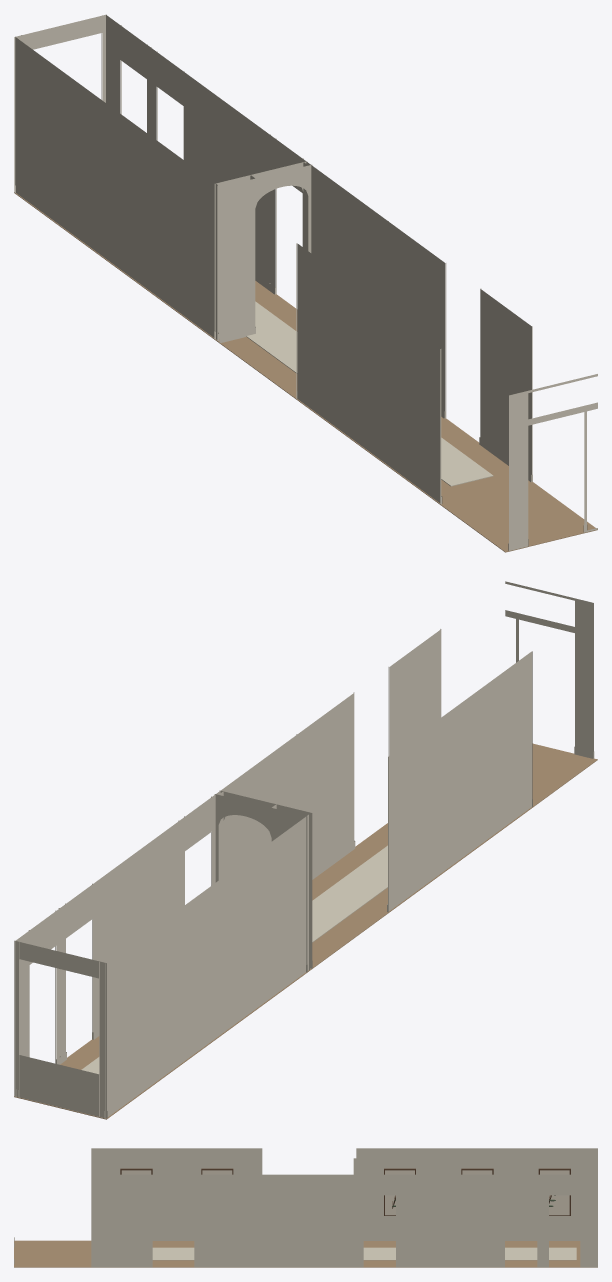
The model's file is corridor-1.glb.
The picture shows the model from 3 angles, top to bottom: view 1: azimuth 30°, elevation 25°; view 2: azimuth 150°, elevation 25°; view 3: azimuth 270°, elevation 25°; orthographic projection. The views are drawn at different scales.
Visible parts, largest first — view 1: DESIGN | corridor removable wall finish, DESIGN | corridor floor finish, DESIGN | Quiet hall runner; view 2: DESIGN | corridor removable wall finish, DESIGN | corridor floor finish, DESIGN | Quiet hall runner; view 3: DESIGN | corridor removable wall finish, DESIGN | corridor floor finish, DESIGN | Quiet hall runner, DESIGN | Seasonal silk panel.002, DESIGN | Seasonal silk panel.
Boxes of the visible parts, box(x1,y1,x2,y2) form: DESIGN | corridor removable wall finish: box(14, 14, 597, 550); DESIGN | corridor floor finish: box(14, 192, 597, 552); DESIGN | Quiet hall runner: box(246, 301, 493, 486); DESIGN | corridor removable wall finish: box(14, 581, 594, 1118); DESIGN | corridor floor finish: box(14, 743, 597, 1119); DESIGN | Quiet hall runner: box(81, 845, 387, 1074); DESIGN | corridor removable wall finish: box(14, 1148, 597, 1267); DESIGN | corridor floor finish: box(14, 1240, 597, 1267); DESIGN | Quiet hall runner: box(152, 1247, 576, 1260); DESIGN | Seasonal silk panel.002: box(540, 1170, 569, 1215); DESIGN | Seasonal silk panel: box(385, 1170, 414, 1215).
Bounding box in the file's own units: 1.7 × 2.74 × 15.63.
